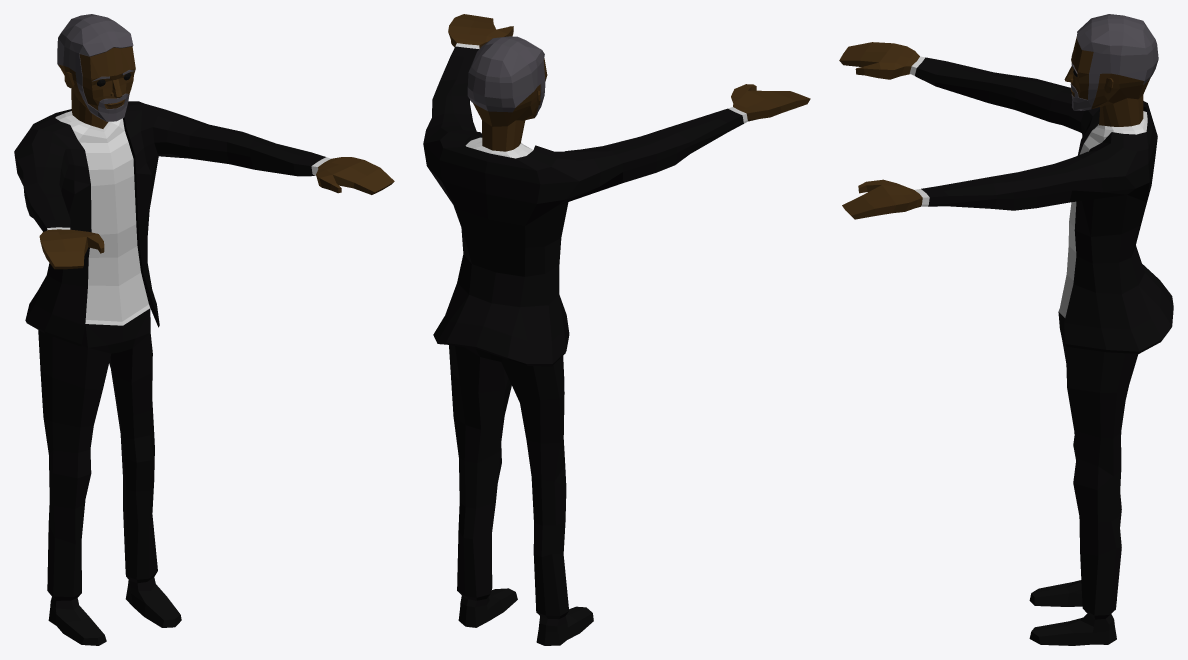
Rendered from Male_Suit_TPose.obj.
3 views of the same model, side by side, from view 1: azimuth 30°, elevation 25°; view 2: azimuth 150°, elevation 25°; view 3: azimuth 270°, elevation 25° (orthographic). The views are drawn at different scales.
Parts seen in each view (by area): view 1: Export_OBJ; view 2: Export_OBJ; view 3: Export_OBJ.
Boxes of the visible parts, bbox=[...] form: Export_OBJ: bbox=[14, 14, 394, 645]; Export_OBJ: bbox=[423, 14, 810, 645]; Export_OBJ: bbox=[839, 14, 1173, 645].
Bounding box in the file's own units: 2.94 × 4.84 × 2.44.
